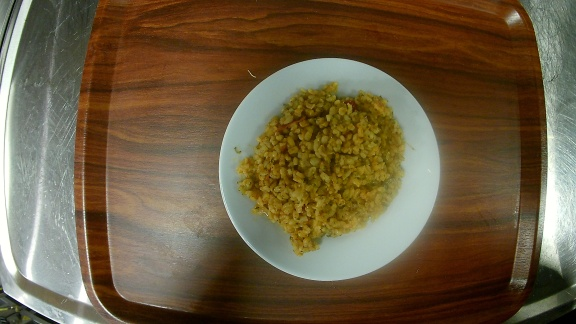bulgur: (218, 57, 440, 280)
